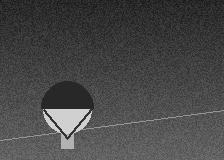helmet: (41, 81, 93, 138)
